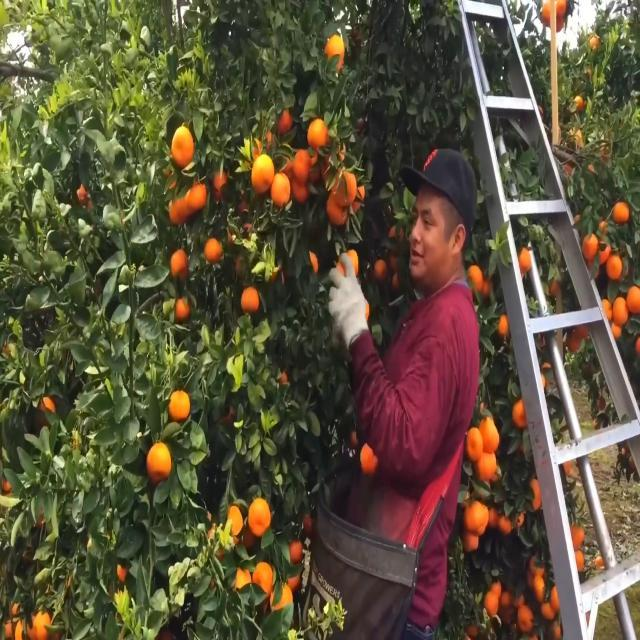Jeruk Sudah Matang: (462, 494, 504, 548), (246, 489, 276, 541), (247, 148, 276, 200), (330, 158, 360, 208), (144, 444, 177, 484), (355, 436, 383, 480), (170, 120, 194, 168), (324, 184, 350, 228), (305, 114, 332, 156), (269, 175, 295, 215), (464, 421, 484, 467), (238, 280, 262, 318), (166, 386, 192, 420), (608, 290, 630, 330), (168, 244, 192, 280), (171, 292, 194, 326), (604, 248, 626, 283), (225, 508, 248, 540), (610, 197, 634, 226), (625, 278, 640, 320), (203, 234, 223, 260)
